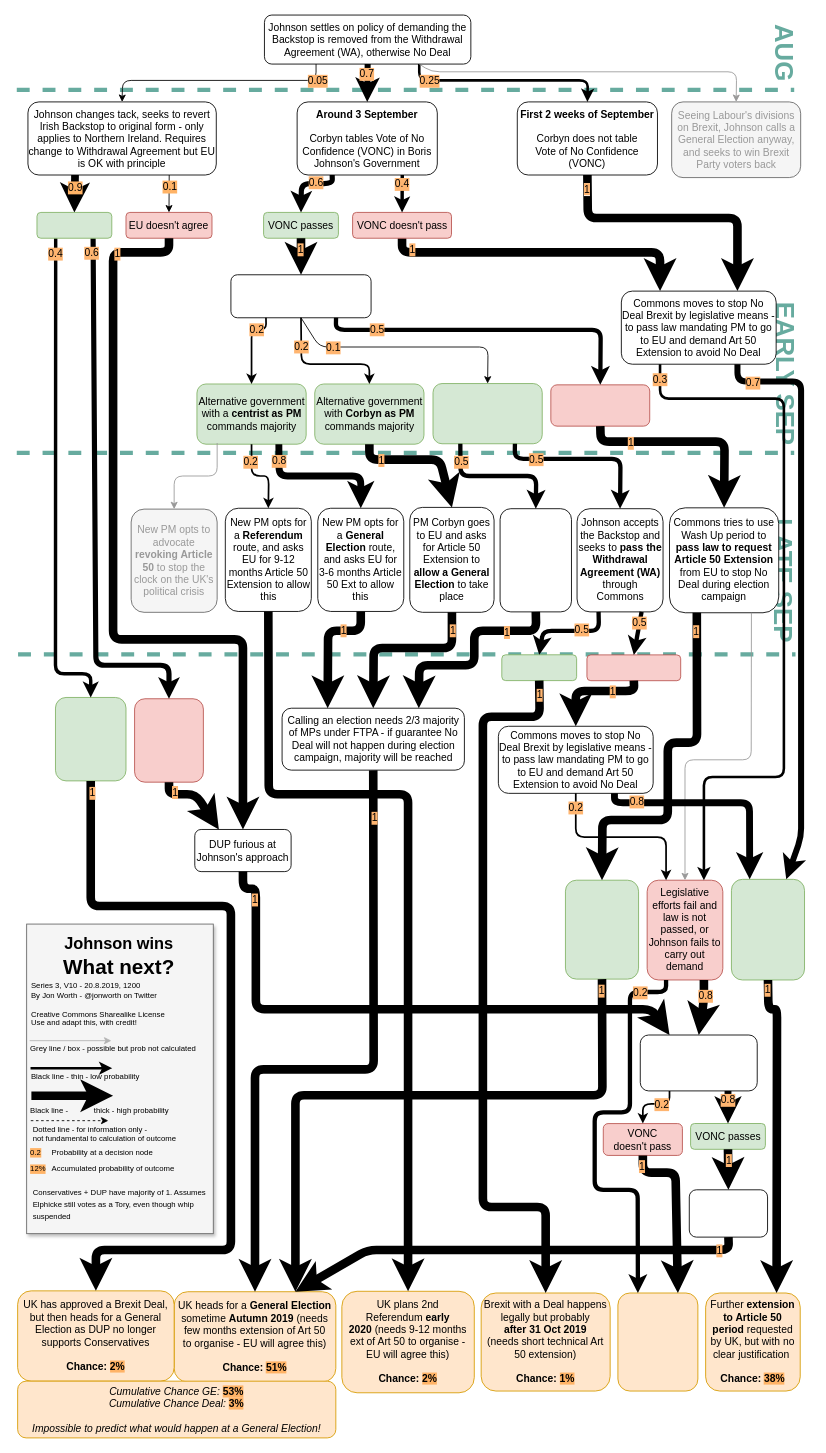
The diagram is 826 pixels wide and 1453 high, and some of its shapes have lost their labels. Each missing label, with the centre of its shape:
14 day period foreseen under Fixed Term Parliaments Act: the point at 300,296
Commons votes against Deal with original backstop: the point at 168,740
Commons votes in favour of Deal with original backstop: the point at 90,739
Early to mid October Further Vote of No Confidence (VONC): the point at 698,1062
Emergency legislation to prevent No Deal: the point at 728,1213
EU agrees: the point at 74,225
Johnson softens his Brexit position to regain confidence of Commons: the point at 487,413
Legislative efforts succeed and law is passed: the point at 768,929
No Deal Brexit looms on 31 October 2019, Chance: 6%: the point at 657,1341
No-one can command a majority: the point at 600,405
Seeing there is no support for his way forward, Johnson calls an election: the point at 535,560
WA doesn't pass: the point at 633,667
WA passes: the point at 539,667
Wash Up Legislative efforts succeed and law is passed, election can happen: the point at 602,929
